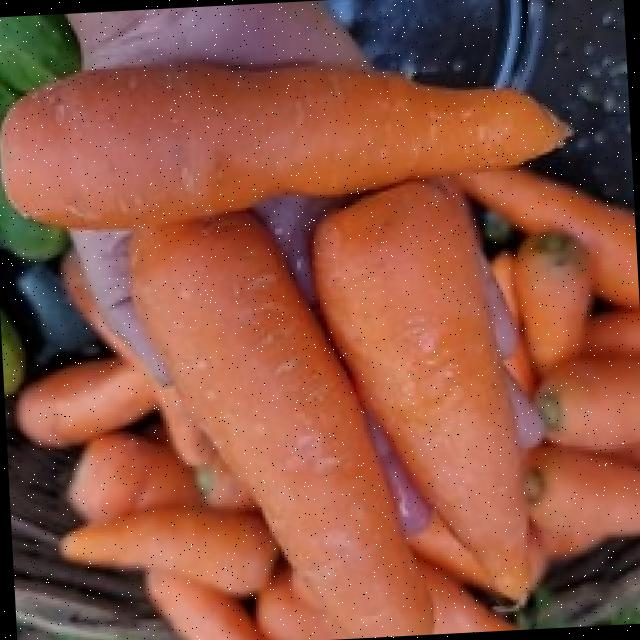carrot: (5, 68, 640, 640), (5, 69, 571, 230), (468, 195, 589, 452)
